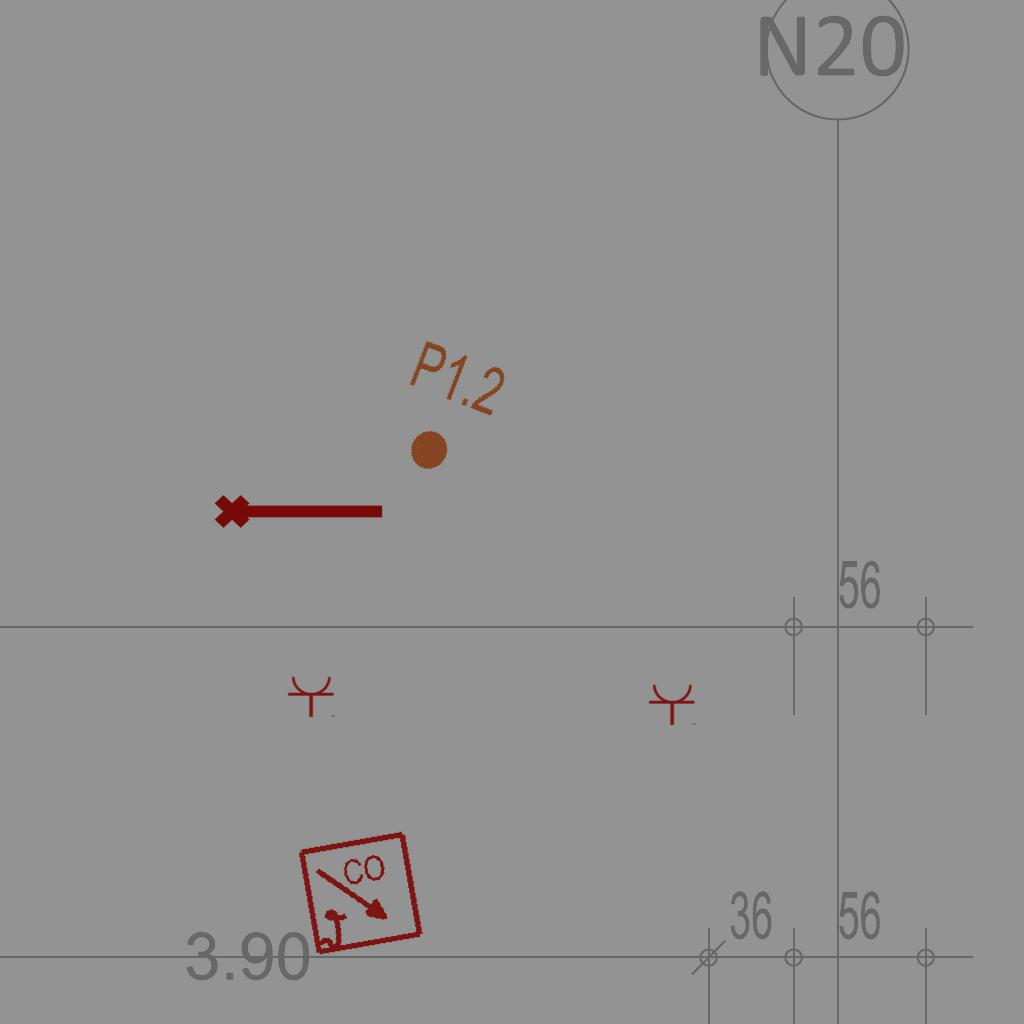ASR_Ansaugoeffnung: (212, 486, 388, 532)
Downlight_LED_Einbauleuchten_Flur: (379, 335, 512, 489)
ROA_Rauchmelder_optisch_mit_Signalgeber_(Sockelsirene): (296, 829, 427, 960)
Schukosteckdose_einfach: (287, 675, 337, 718), (648, 683, 698, 726)
